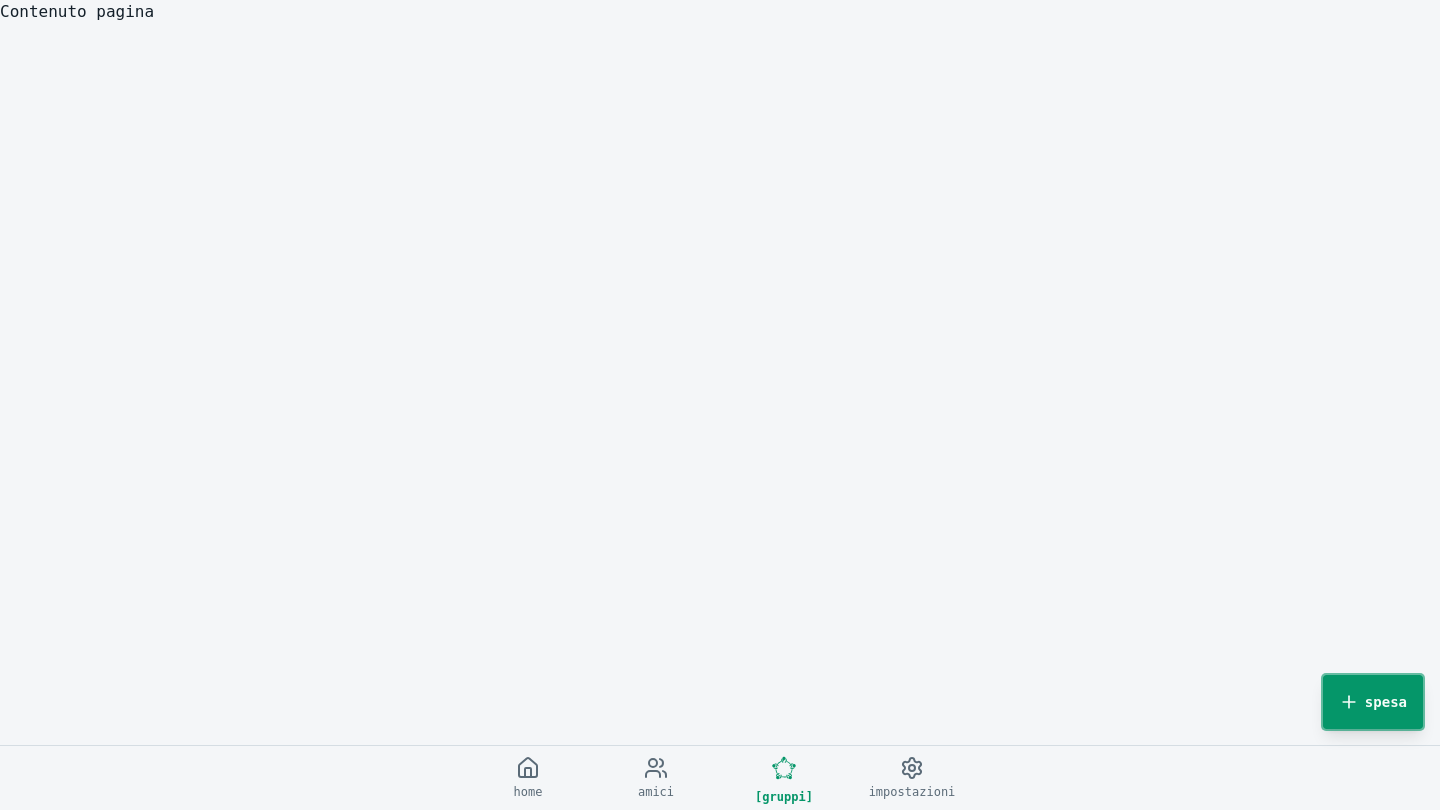
AppLayout — FAB contestuale › sul dettaglio gruppo apre la nuova spesa con il gruppo preselezionato
The width and height of the screenshot is (1440, 810).
Click the button with aria-label "Nuova spesa": [1373, 702] box [1322,674,1424,730]
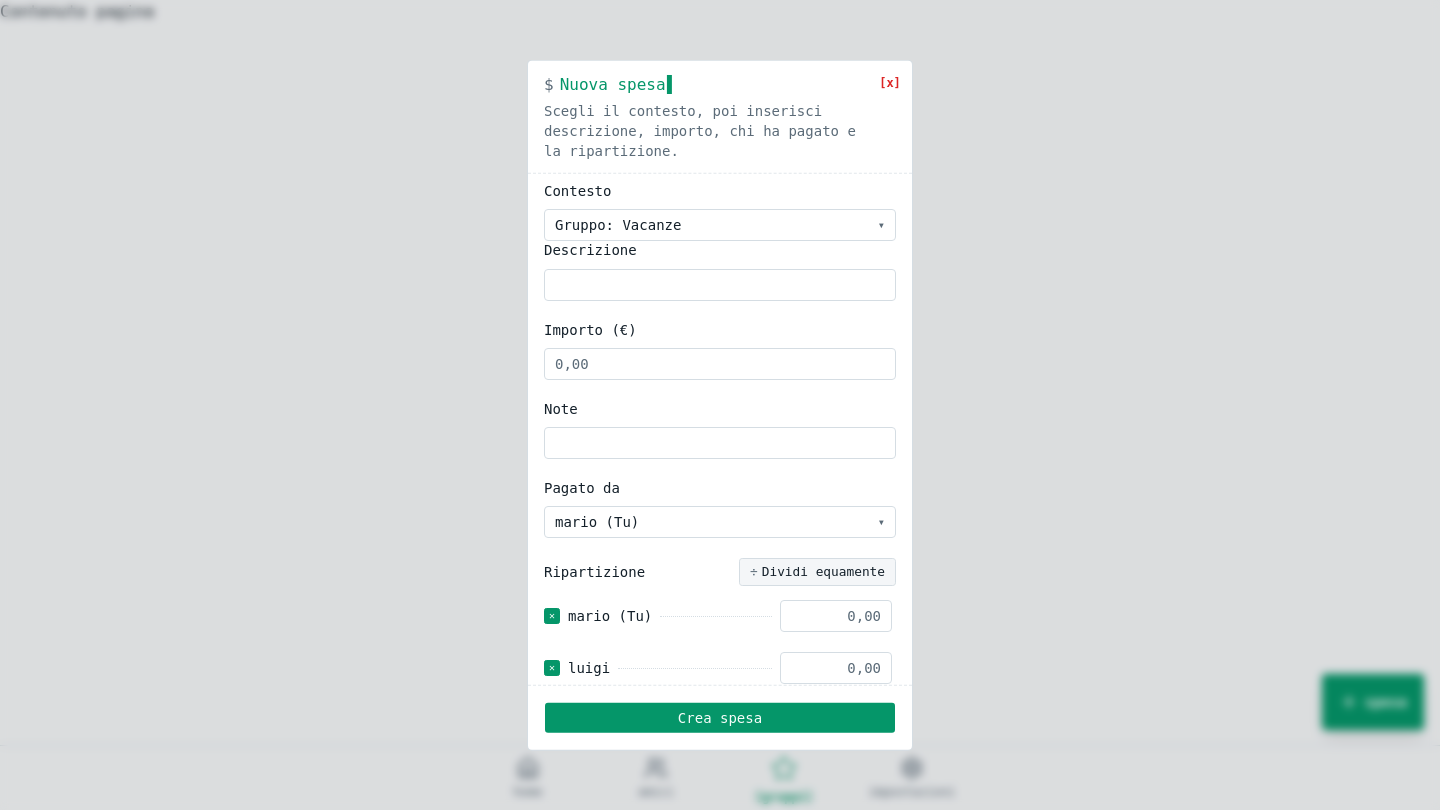
Check: the checkbox named "Partecipa luigi" is checked, box [544,660,560,676]
Check: the dropdown named "Contesto" shows "Gruppo: Vacanze", box [544,209,896,241]
